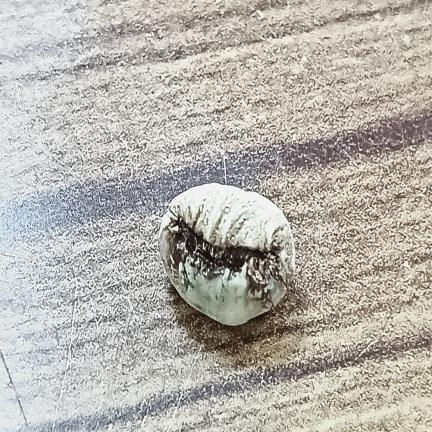cut: (158, 183, 296, 325)
